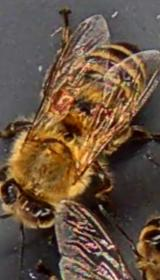varroa_mite: (81, 102, 112, 126), (48, 82, 74, 110)
